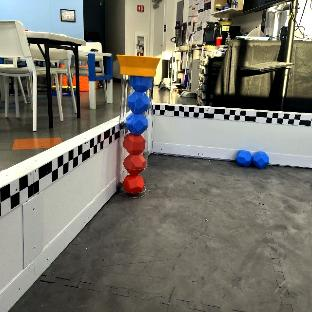Loader: (115, 54, 160, 197)
V5_BLUE: (236, 151, 269, 168), (127, 90, 150, 112), (125, 113, 148, 133), (131, 74, 152, 90)
V5_RED: (123, 133, 146, 154), (123, 154, 146, 174), (123, 173, 144, 194), (78, 76, 88, 91)
